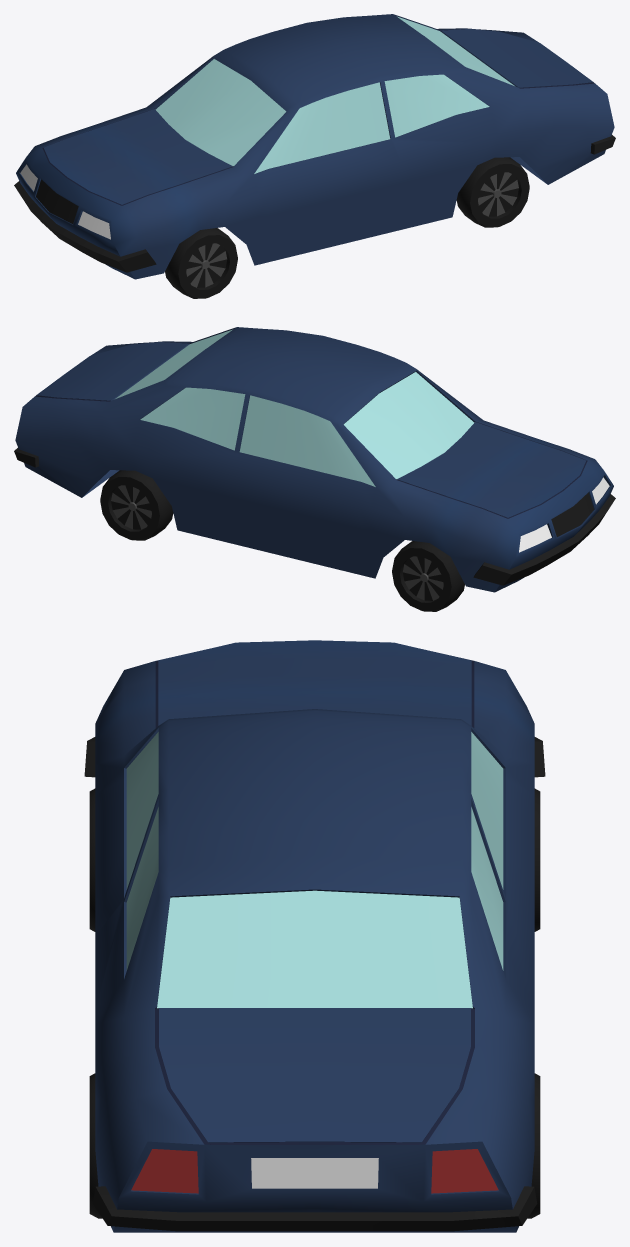
Rendered from blue car.glb.
3 views of the same model, one above another, from view 1: azimuth 30°, elevation 25°; view 2: azimuth 150°, elevation 25°; view 3: azimuth 270°, elevation 25° (orthographic). The views are drawn at different scales.
Visible parts, largest first — view 1: yellow car; view 2: yellow car; view 3: yellow car.
Boxes of the visible parts, x1,y1,x2,y2 form: yellow car: (14,14,615,298); yellow car: (14,327,615,611); yellow car: (84,640,545,1232).
Size of the model in its own units: 3.67 by 1.13 by 1.4.
1 material, 1 textured.
